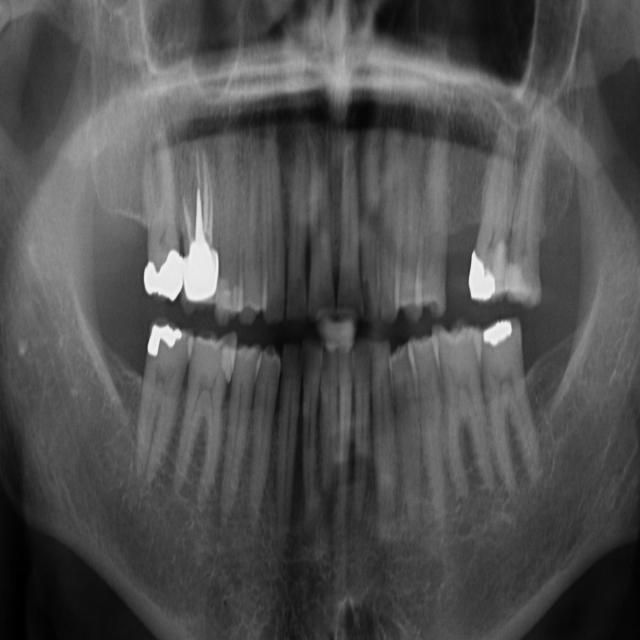dolgu: (466, 246, 509, 303), (140, 319, 185, 360), (482, 316, 522, 355)
kanal-tedavisi: (174, 148, 226, 255)
kaplama: (186, 237, 224, 304), (142, 245, 182, 299)
